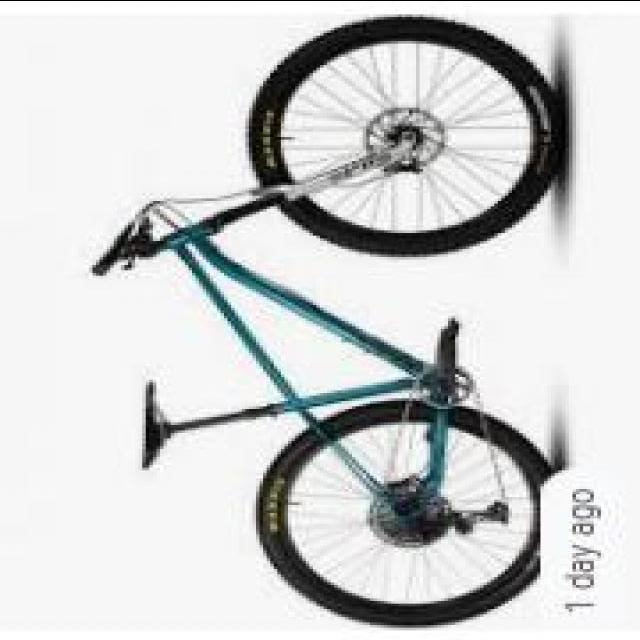bicycle: (83, 10, 577, 628)
